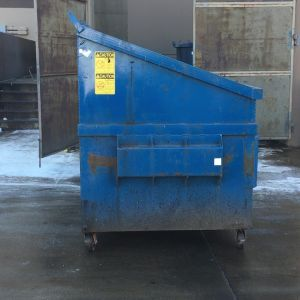Dumpster: (66, 9, 265, 256)
